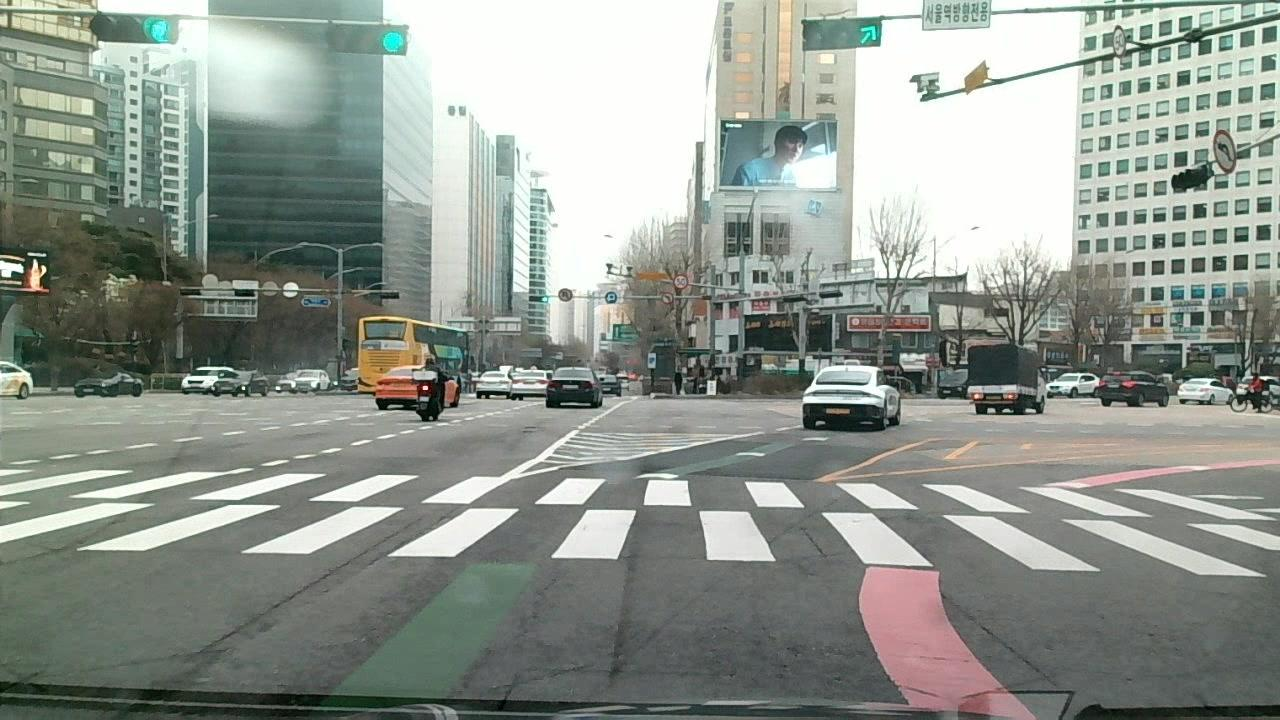vcrack: (142, 583, 319, 693), (932, 588, 1046, 679), (323, 514, 449, 577), (484, 657, 611, 710), (796, 517, 827, 557)
